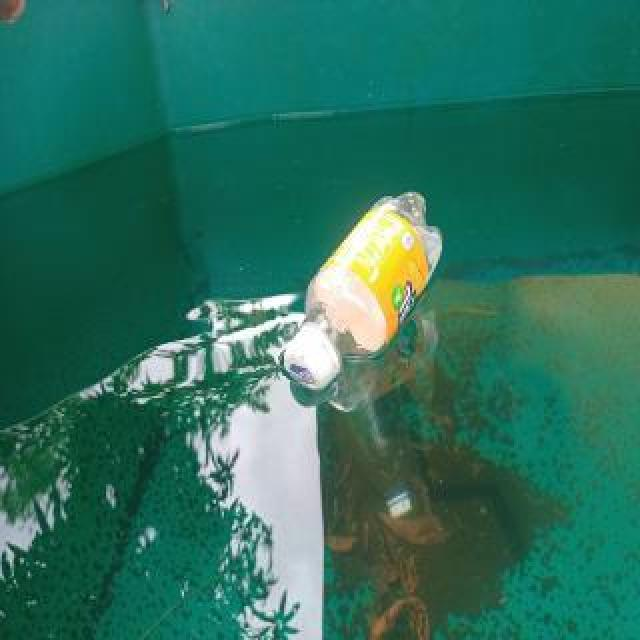bottle: (283, 182, 445, 394)
